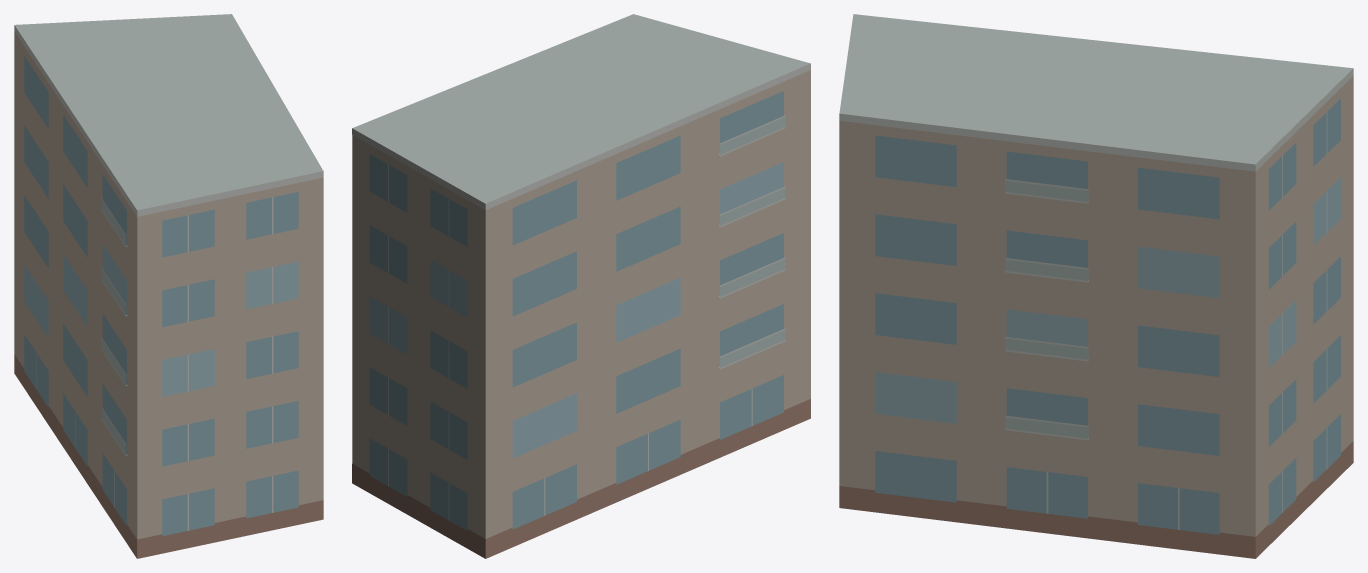
Rendered from survey-upis-32654750.glb.
3 views of the same model, side by side, from view 1: azimuth 30°, elevation 25°; view 2: azimuth 150°, elevation 25°; view 3: azimuth 270°, elevation 25° (orthographic). The views are drawn at different scales.
Parts seen in each view (by area): view 1: survey-upis-32654750.tmp; view 2: survey-upis-32654750.tmp; view 3: survey-upis-32654750.tmp.
Part boxes in pixels (x1,y1,x2,y2): survey-upis-32654750.tmp: (14,14,323,558); survey-upis-32654750.tmp: (352,14,810,558); survey-upis-32654750.tmp: (839,14,1353,558).
Size of the model in its own units: 10.9 by 13.3 by 15.73.
